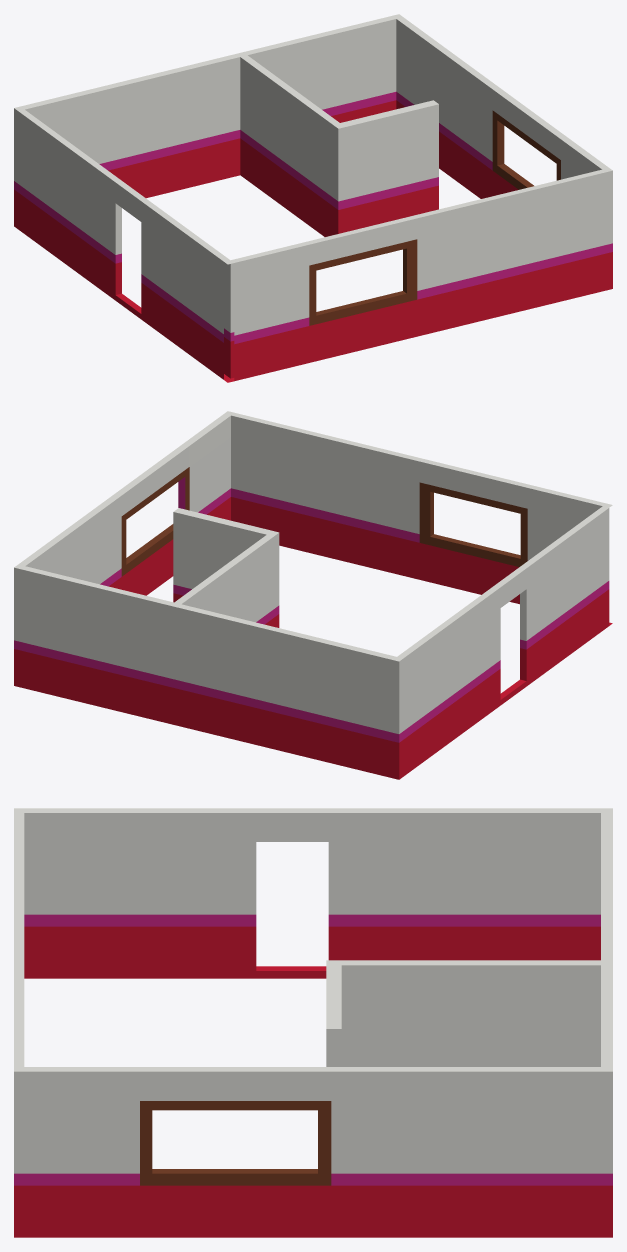
File: Wallks.fbx
The picture shows the model from 3 angles, top to bottom: view 1: azimuth 30°, elevation 25°; view 2: azimuth 150°, elevation 25°; view 3: azimuth 270°, elevation 25°; orthographic projection. The views are drawn at different scales.
Parts seen in each view (by area): view 1: Wallks; view 2: Wallks; view 3: Wallks.
Part boxes in pixels (x1=…): Wallks: x1=14, y1=14, x2=612, y2=382; Wallks: x1=14, y1=411, x2=612, y2=779; Wallks: x1=14, y1=808, x2=612, y2=1237.
Size of the model in its own units: 19.08 by 5.6 by 18.35.
